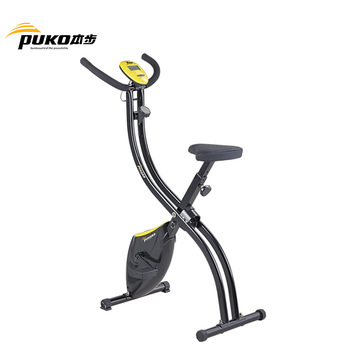gym_bike: (73, 40, 269, 345)
